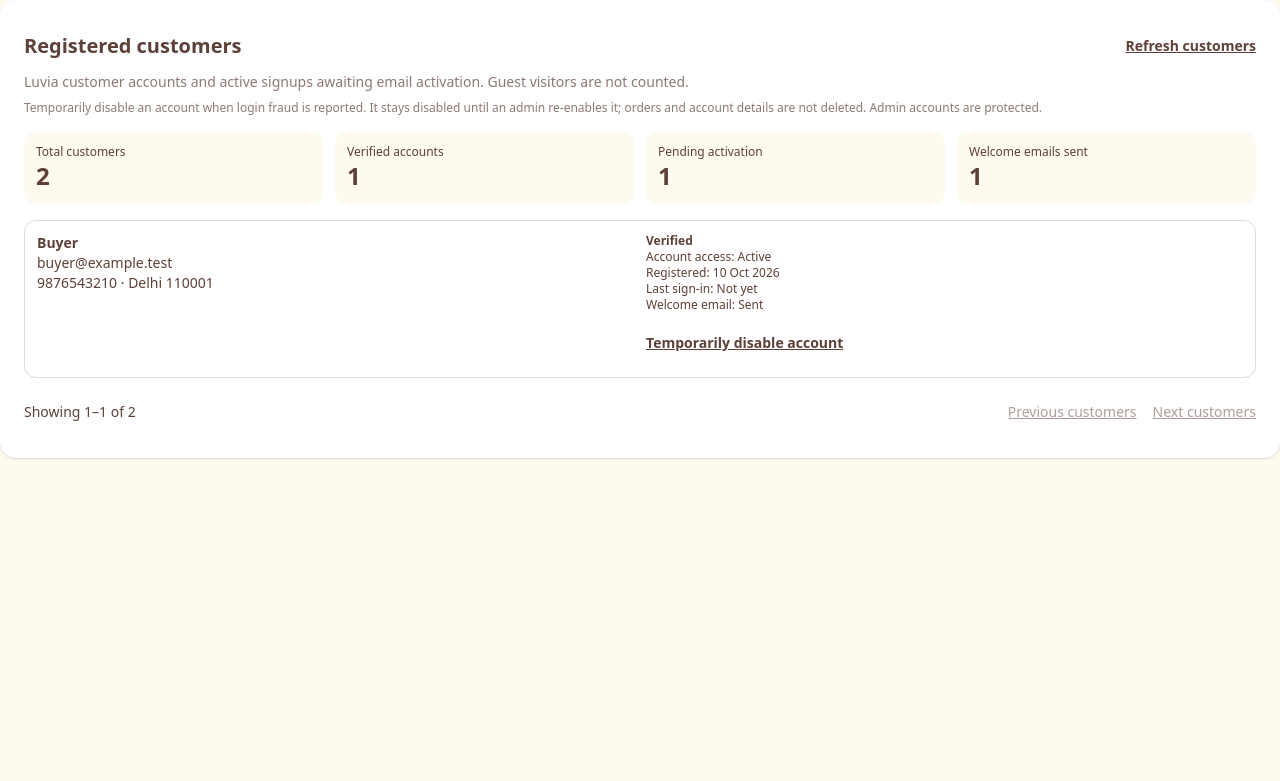
confirms customer suspension/restoration with current admin password (suspended=false)
The width and height of the screenshot is (1280, 781).
Click the button "Temporarily disable account" at (745, 343), box [646, 321, 843, 365]
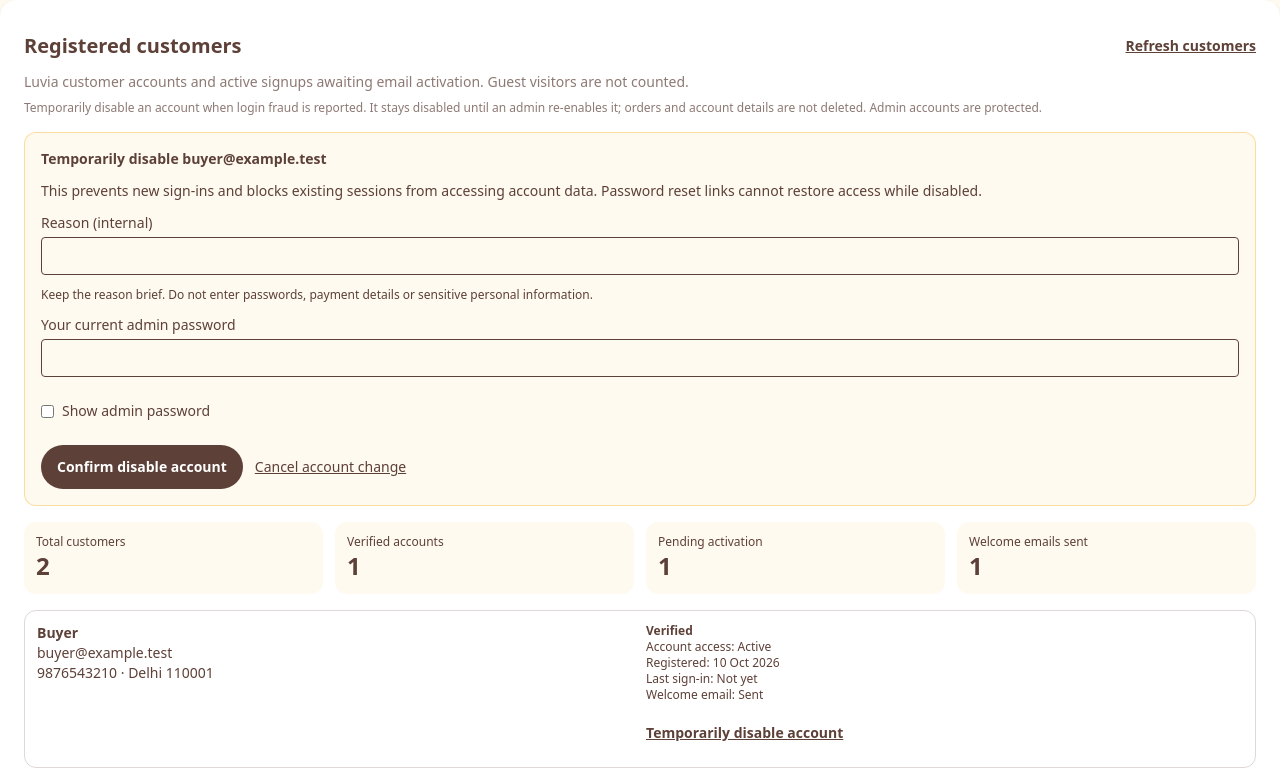
Type "Customer reported login fraud." into the field labelled "Reason (internal)" at (640, 256), box [41, 237, 1239, 275]
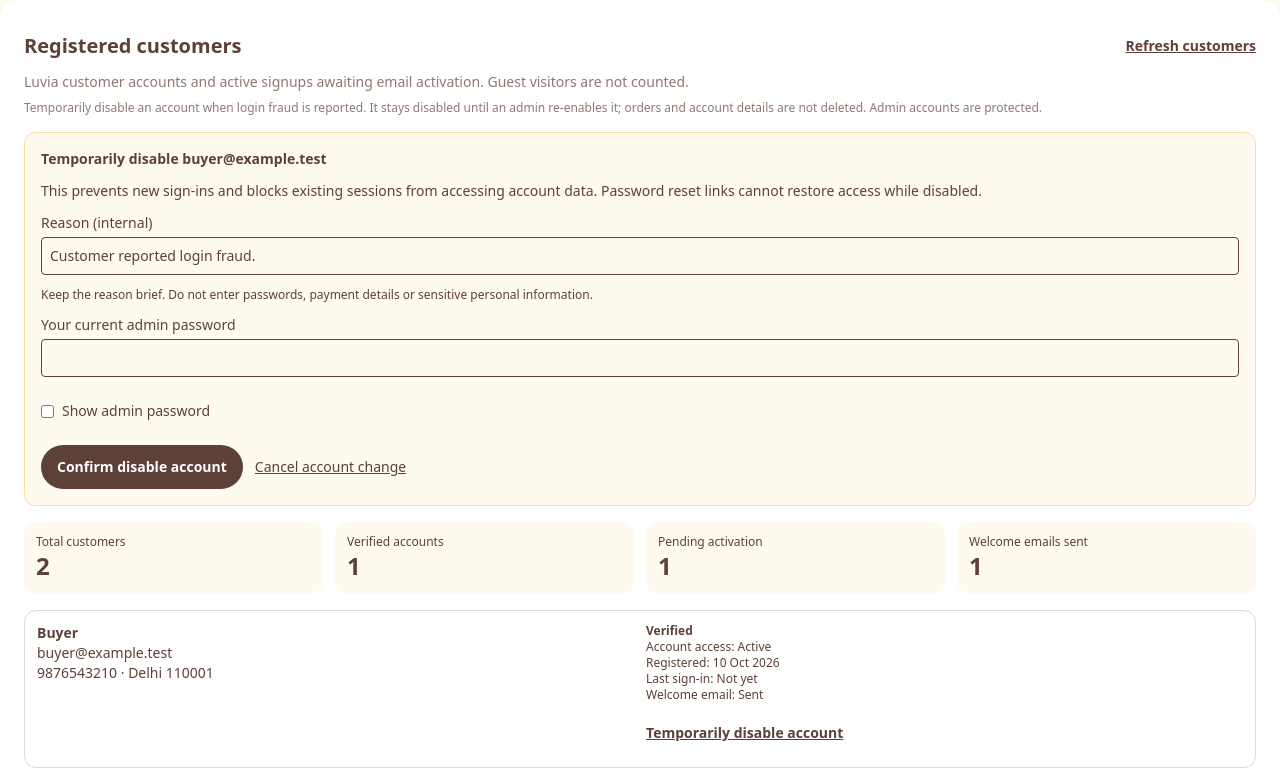
Type "current" into the password field labelled "Your current admin password" at (640, 358), box [41, 339, 1239, 377]
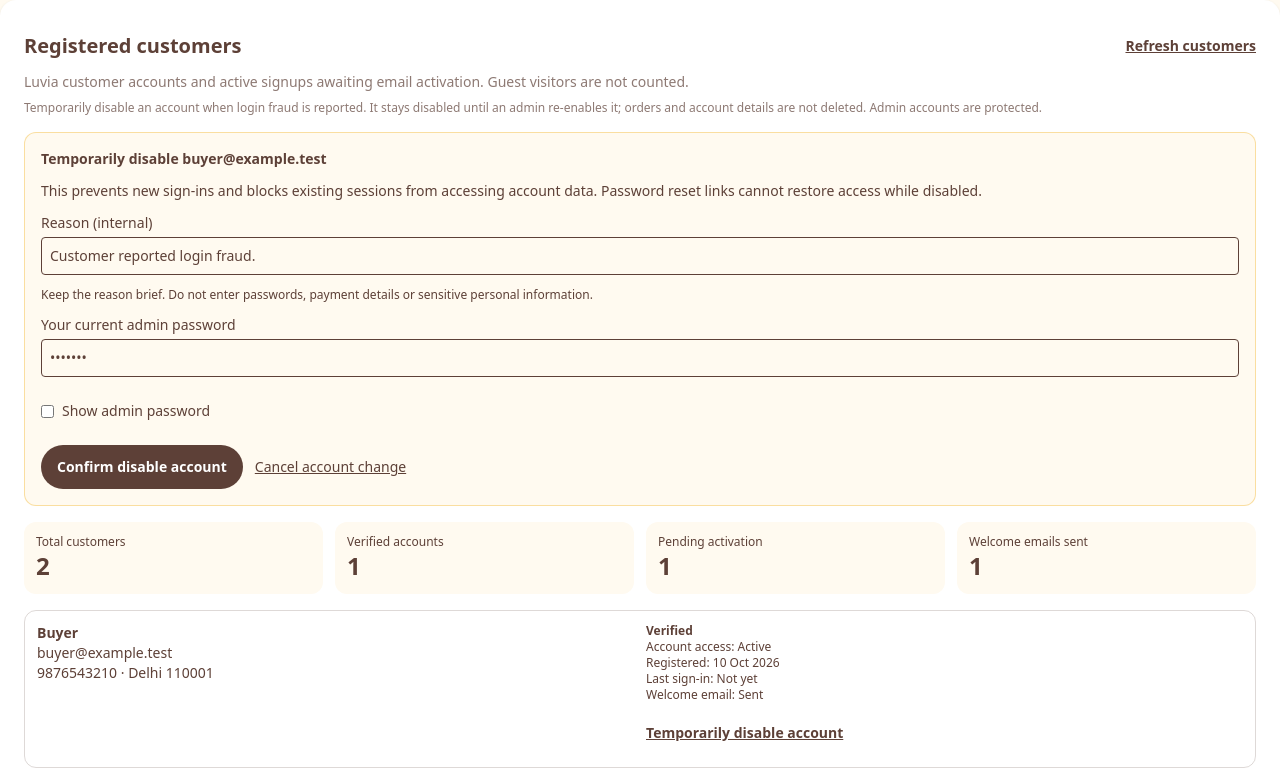
Click the checkbox labelled "Show admin password" at (48, 411), box [41, 404, 54, 418]
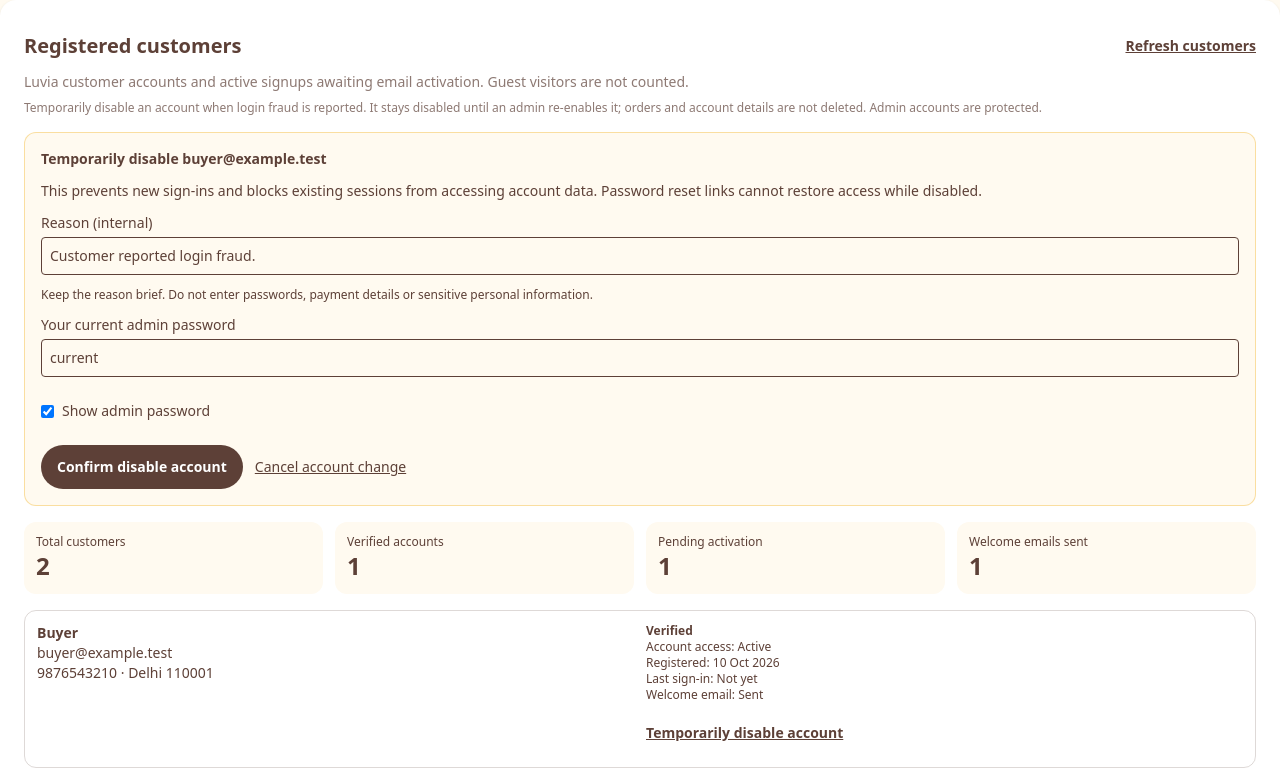
Expected: the field labelled "Your current admin password" shows its text, [41, 339, 1239, 377]
Submit the form named "Customer account access", box [24, 132, 1256, 506]
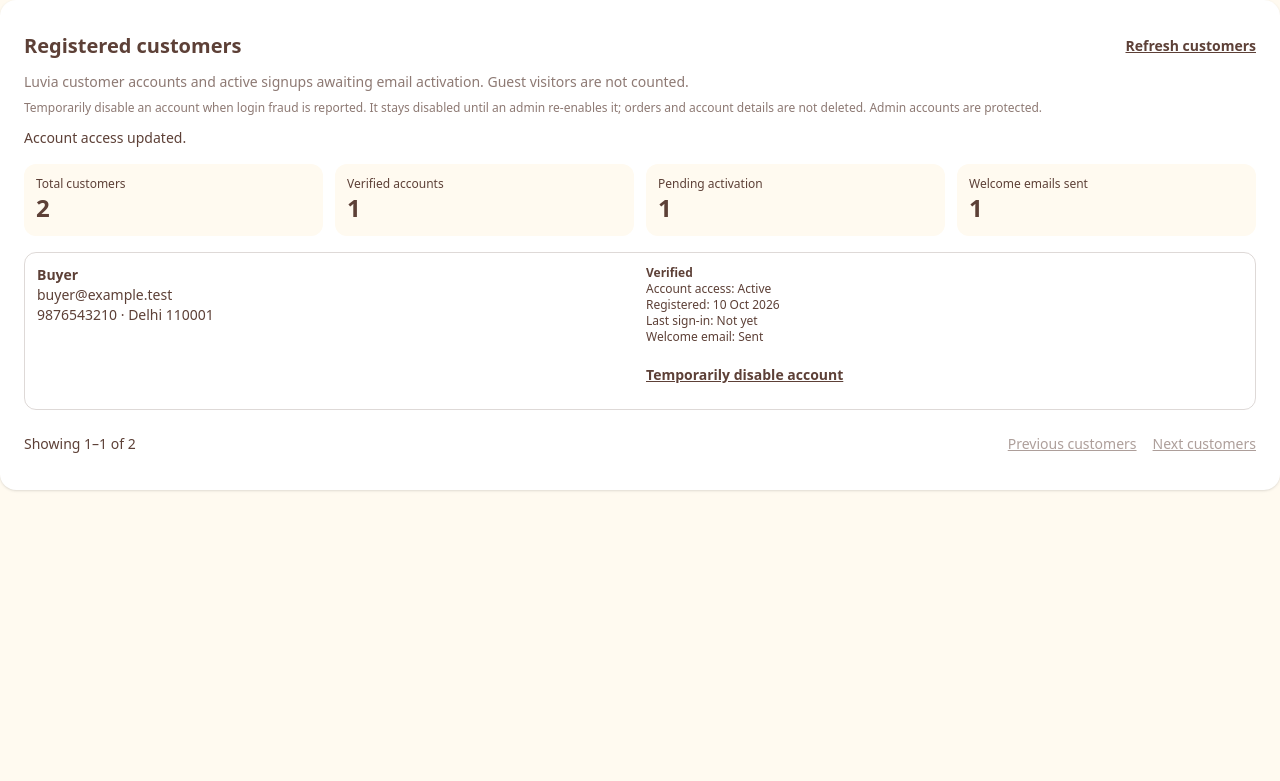
Expected: the text "Account access updated." is shown, [24, 128, 186, 147]
